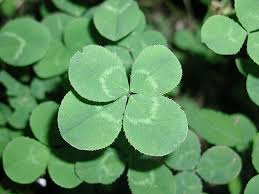4-clover: (58, 43, 188, 156)
